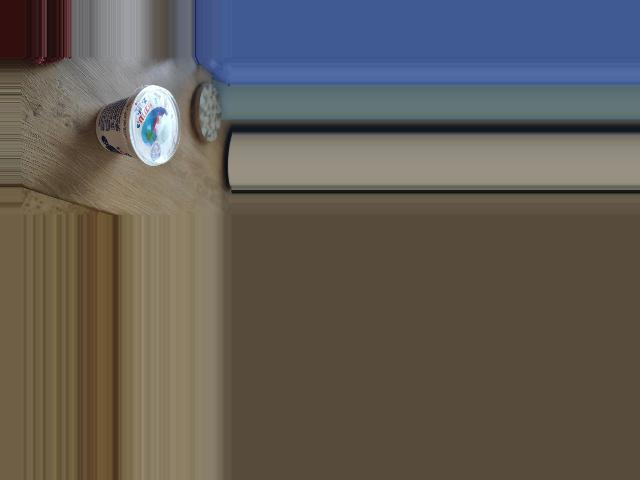cotage: (82, 98, 182, 168)
